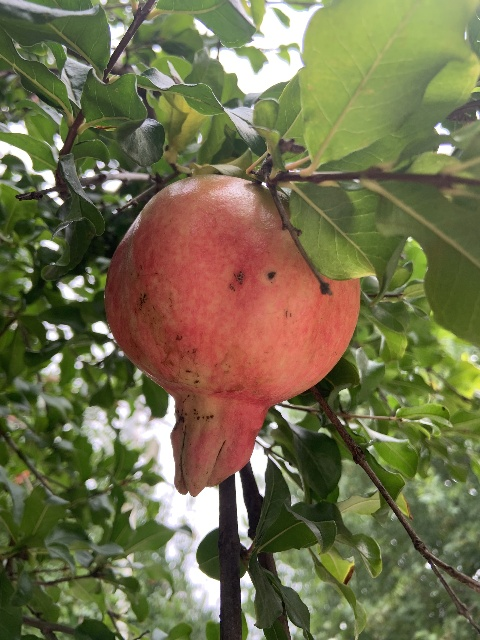ripe: (104, 170, 358, 499)
